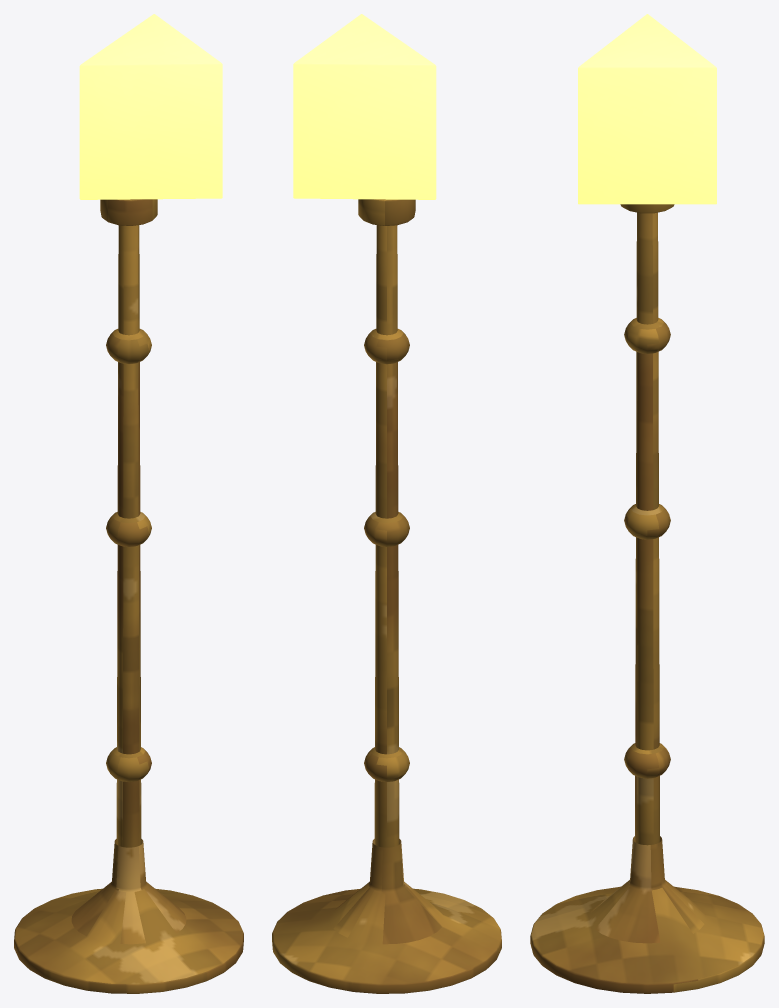
File: prop_lamp.glb
The picture shows the model from 3 angles, left to right: view 1: azimuth 30°, elevation 25°; view 2: azimuth 150°, elevation 25°; view 3: azimuth 270°, elevation 25°; orthographic projection.
Visible parts, largest first — view 1: prop_lamp; view 2: prop_lamp; view 3: prop_lamp.
Boxes of the visible parts, x1,y1,x2,y2 form: prop_lamp: (14,14,243,993); prop_lamp: (272,14,501,993); prop_lamp: (530,14,764,993).
Bounding box in the file's own units: 0.4 × 1.71 × 0.4.
2 materials, 2 textured.
